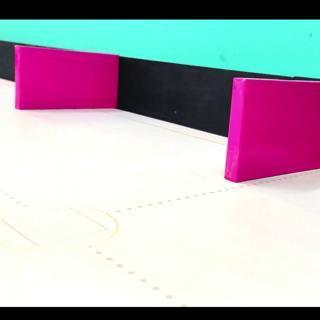xparking: (237, 84, 317, 186), (20, 56, 116, 116)
